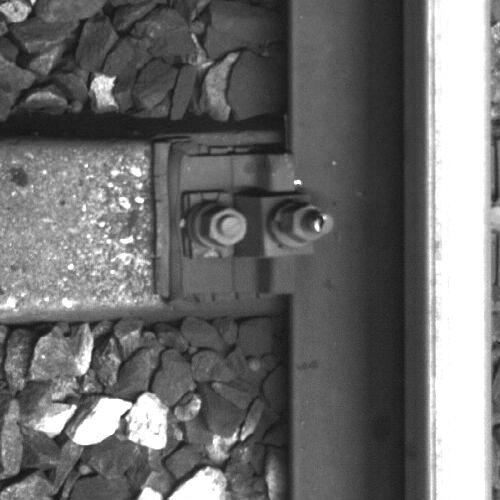kb: (181, 160, 335, 296)
nut: (277, 199, 335, 245), (200, 204, 248, 248)
rail: (425, 1, 492, 500)
tie_concr: (1, 140, 285, 304)
